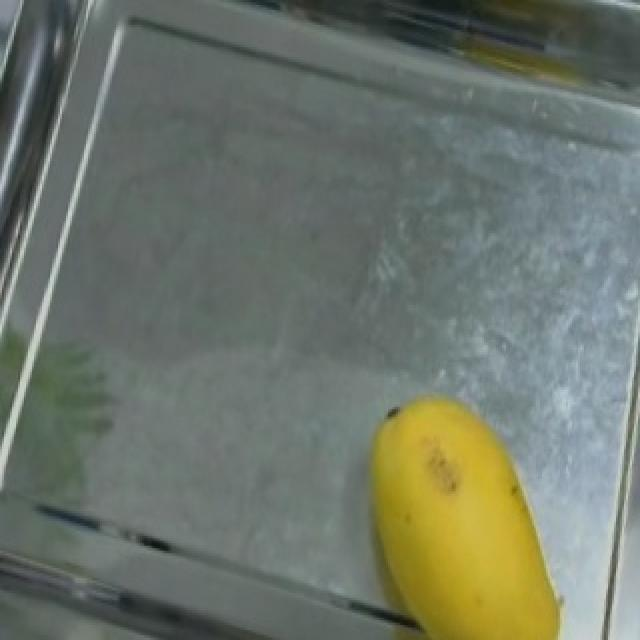fruit: (326, 364, 614, 640)
